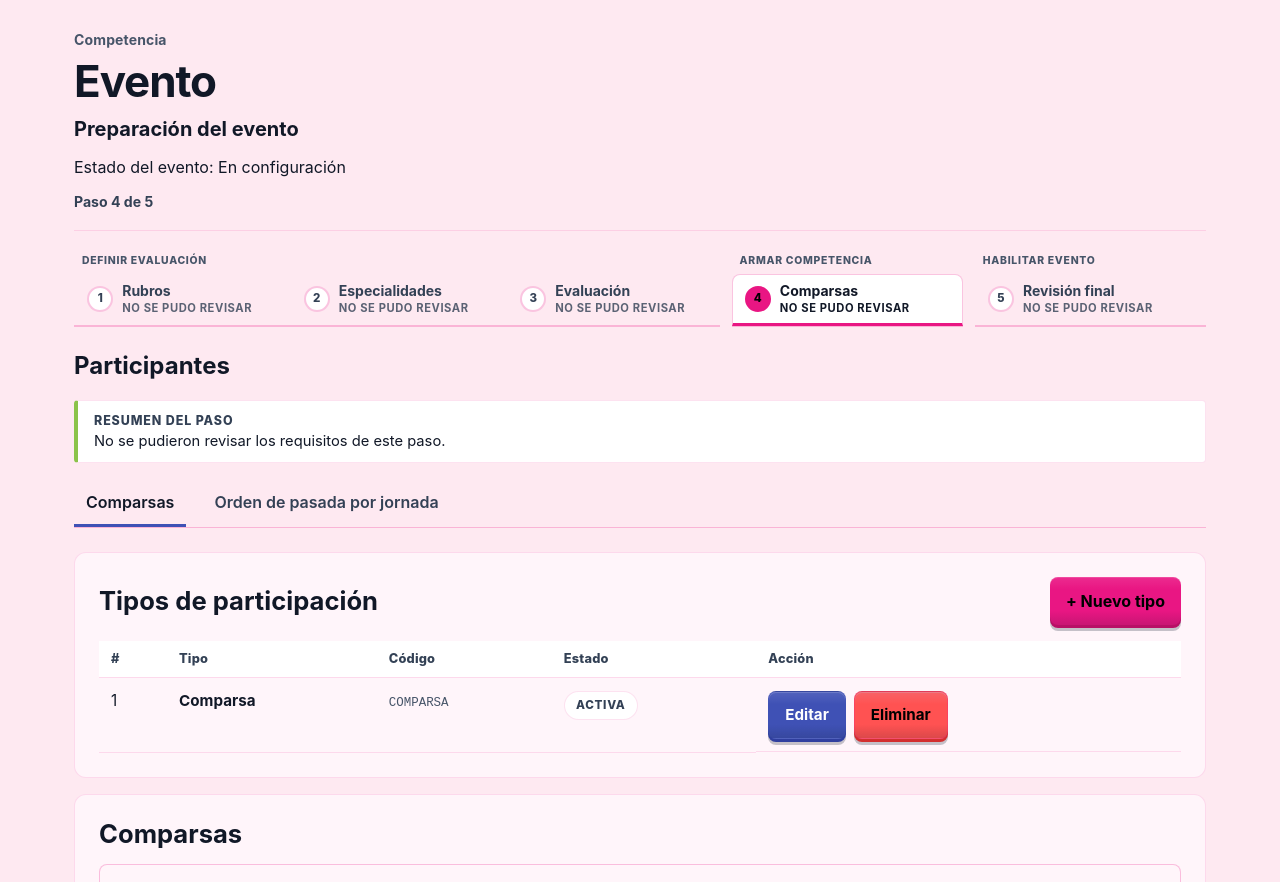
Test: AdminCompetenciaPage › mantiene el estado no disponible si readiness no pudo consultarse
The image size is (1280, 882).
Click the button "3 Evaluación No se pudo revisar" at {"x": 613, "y": 300}, box [507, 274, 720, 326]
(page scrolled)
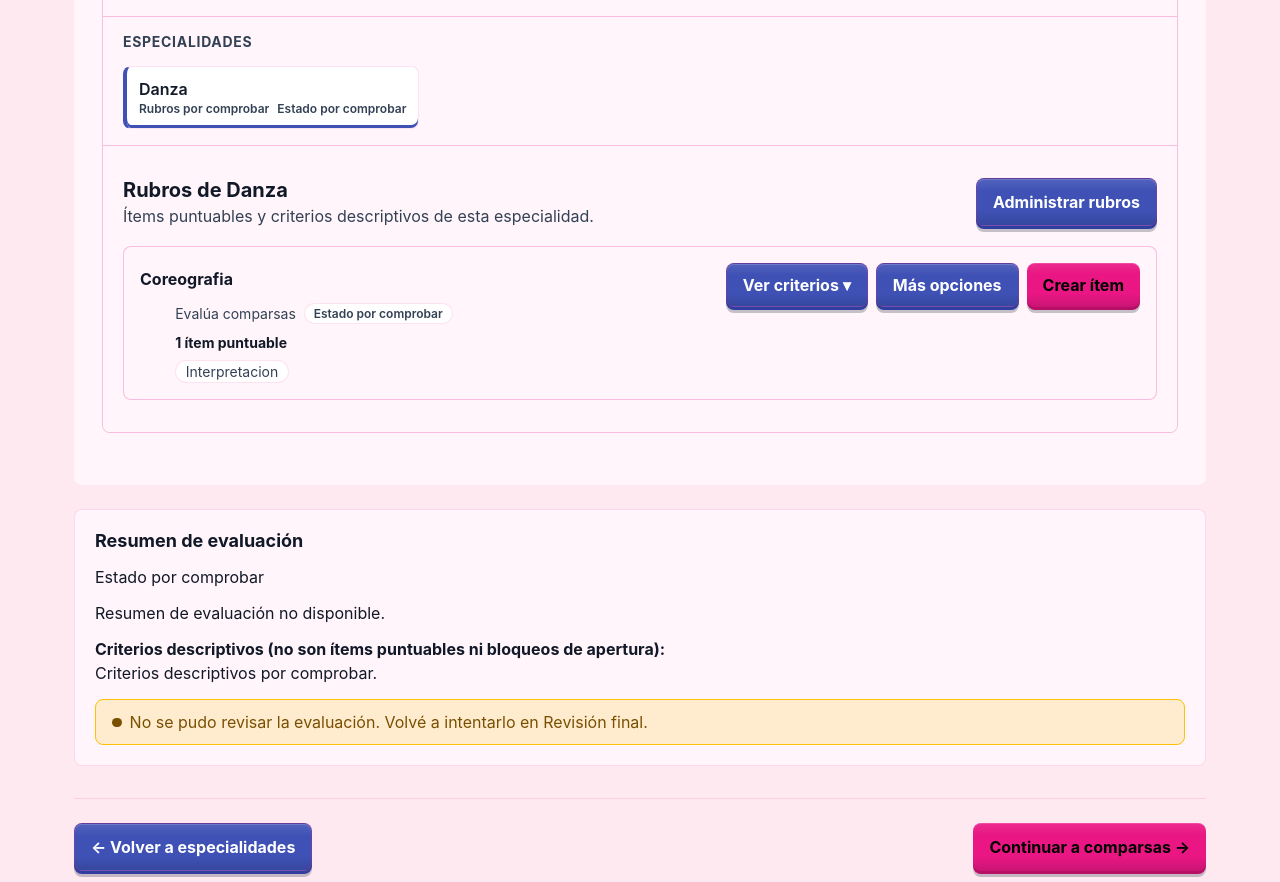
Expected: the text "No se pudo revisar la evaluación. Volvé a intentarlo en Revisión final." is shown, [95, 700, 1185, 746]
